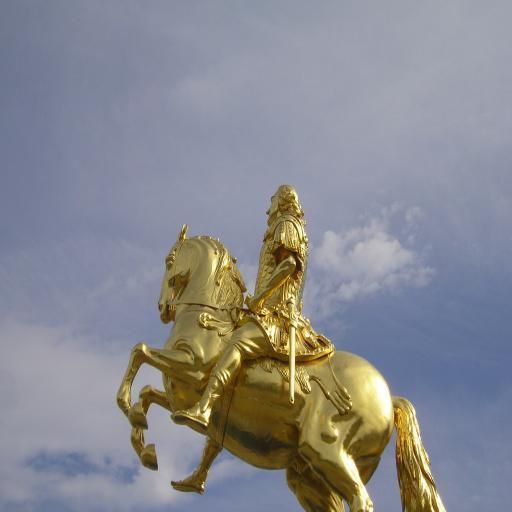horse: (116, 222, 446, 512)
